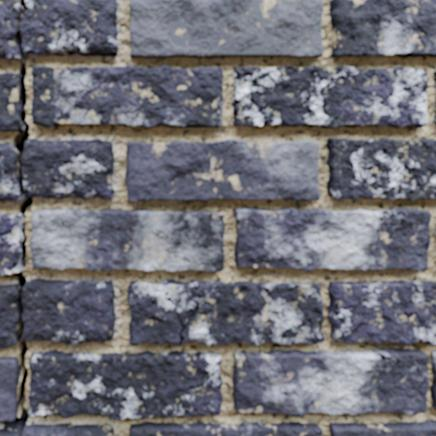brick: (29, 350, 222, 419), (233, 348, 428, 416), (127, 280, 323, 344), (30, 209, 223, 271), (235, 208, 428, 270), (233, 66, 427, 127), (32, 66, 222, 127), (125, 140, 318, 200), (130, 0, 322, 57), (328, 281, 435, 344), (327, 138, 435, 199), (330, 0, 435, 56), (130, 422, 321, 435), (330, 421, 435, 435), (0, 215, 22, 274), (0, 73, 21, 131), (0, 357, 18, 421), (389, 208, 430, 227), (431, 351, 435, 408)
broken_brick: (23, 278, 116, 345), (22, 138, 114, 199), (22, 0, 118, 57), (0, 141, 21, 201), (23, 422, 114, 435), (0, 0, 19, 60), (0, 283, 17, 348), (0, 428, 14, 435)
crack: (0, 0, 33, 435), (376, 352, 430, 396), (164, 291, 201, 345), (377, 210, 431, 247), (335, 321, 365, 342), (216, 227, 224, 235)
